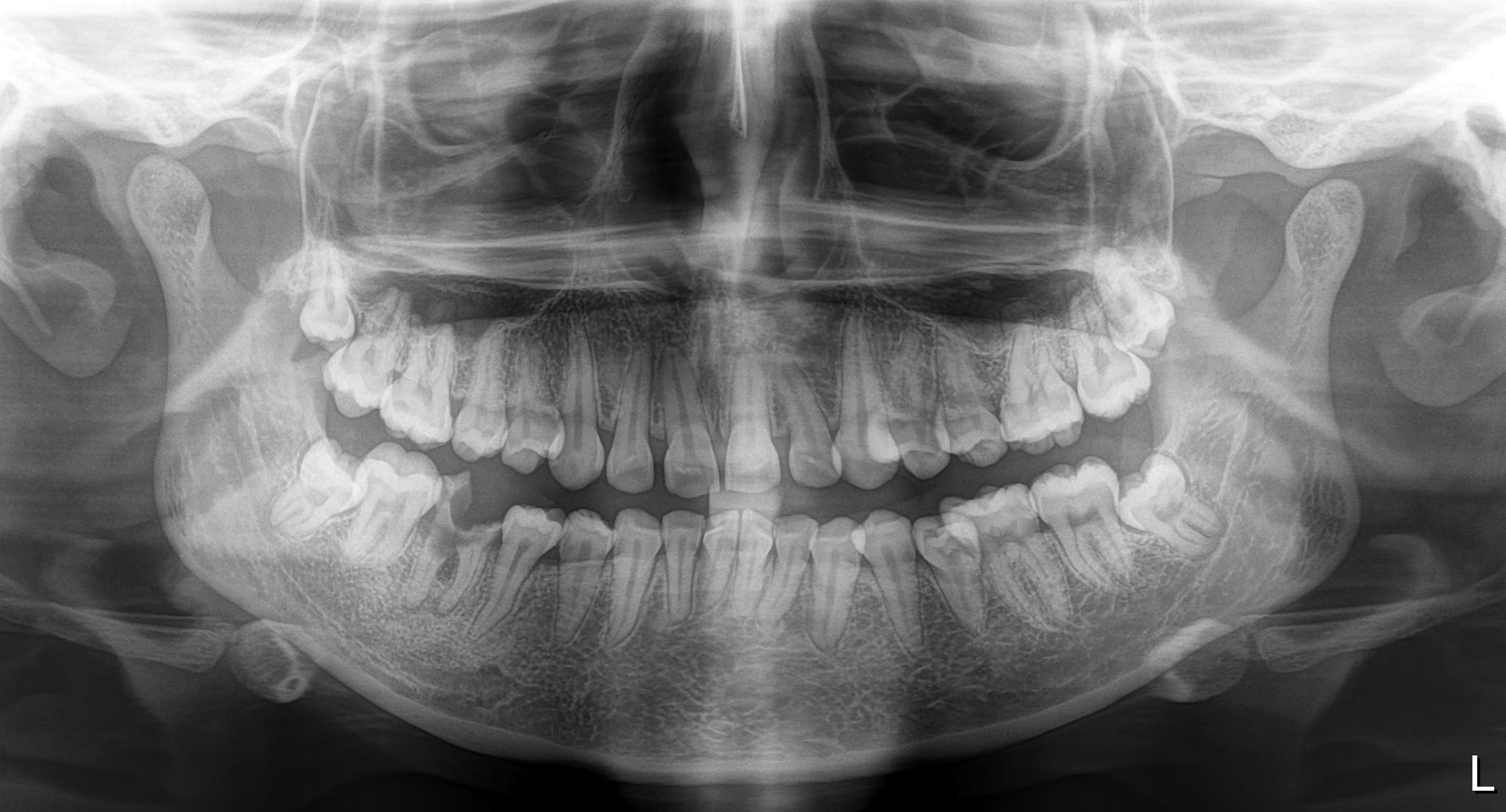Dental Caries: (430, 520, 493, 570)
Impacted Third Molar: (1121, 461, 1241, 560), (1094, 250, 1204, 355), (268, 432, 357, 549), (305, 261, 358, 347)
